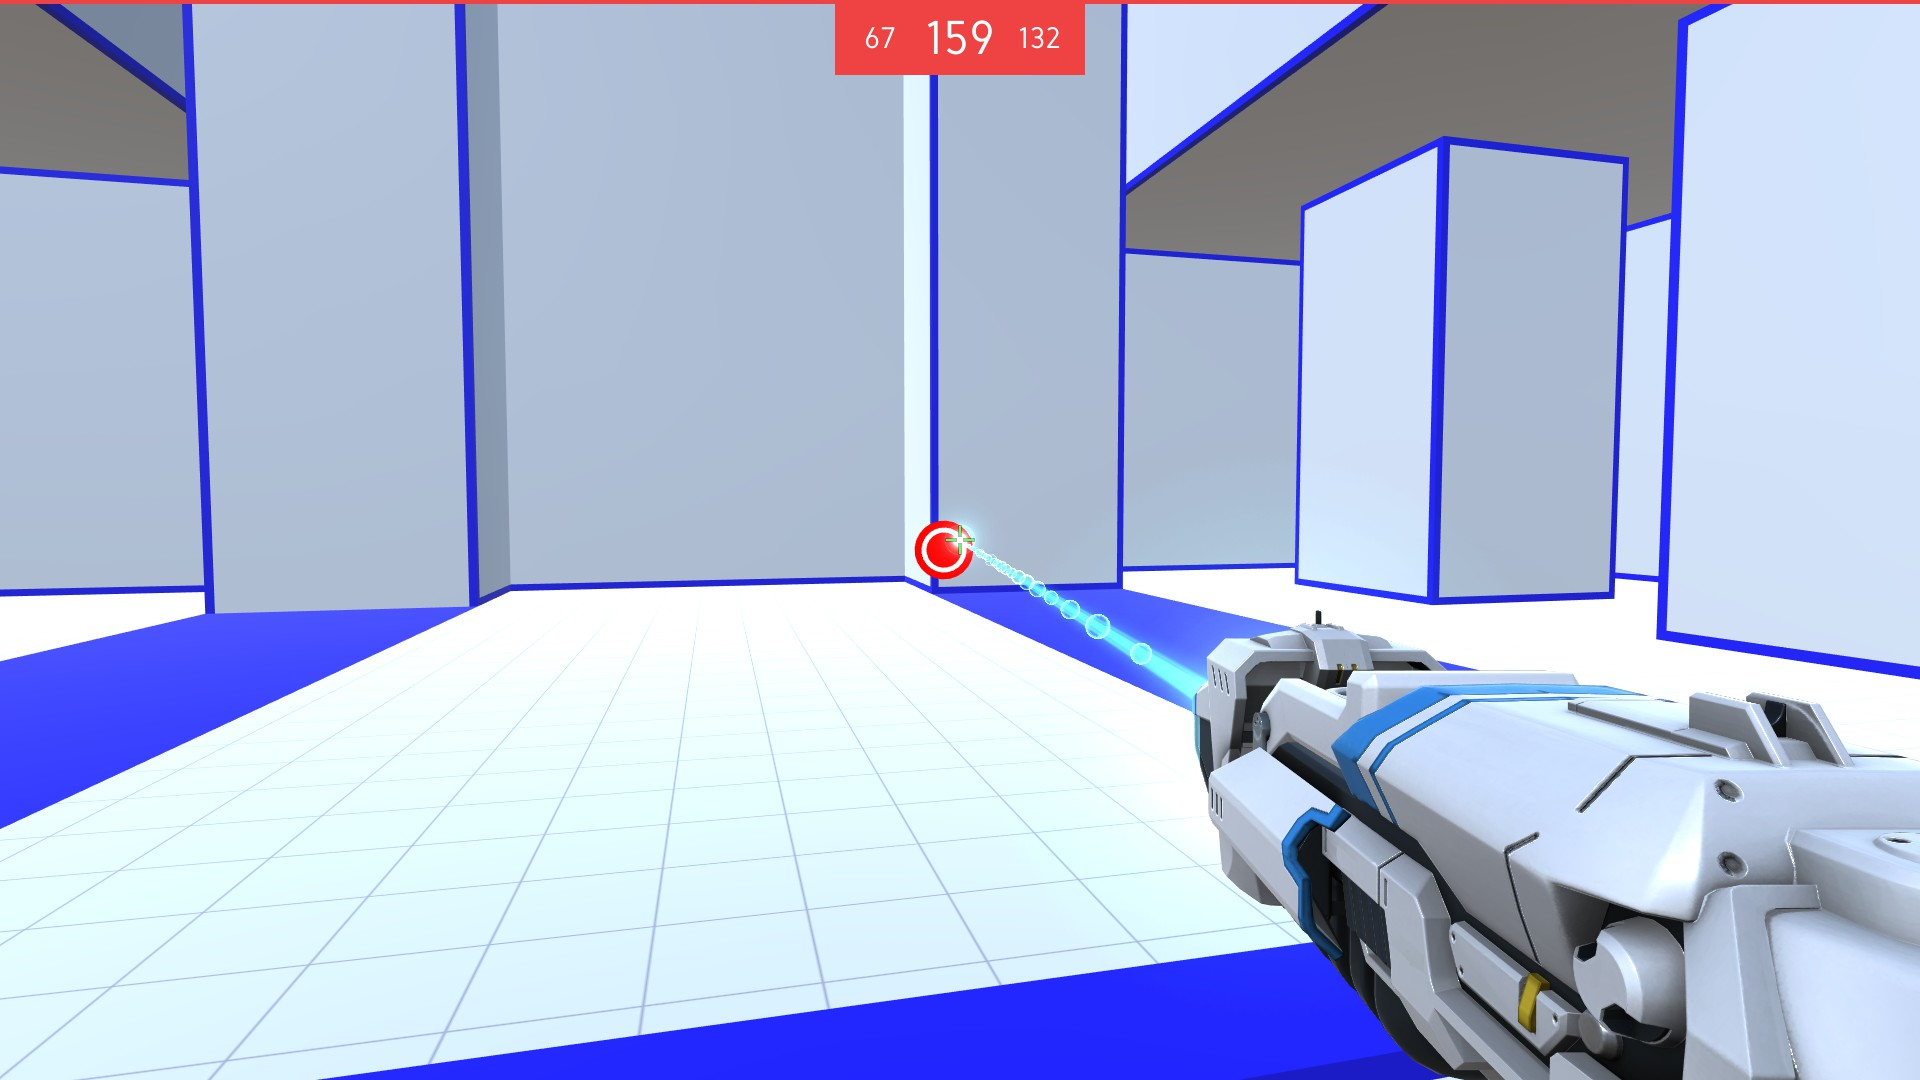target: (913, 520, 981, 582)
